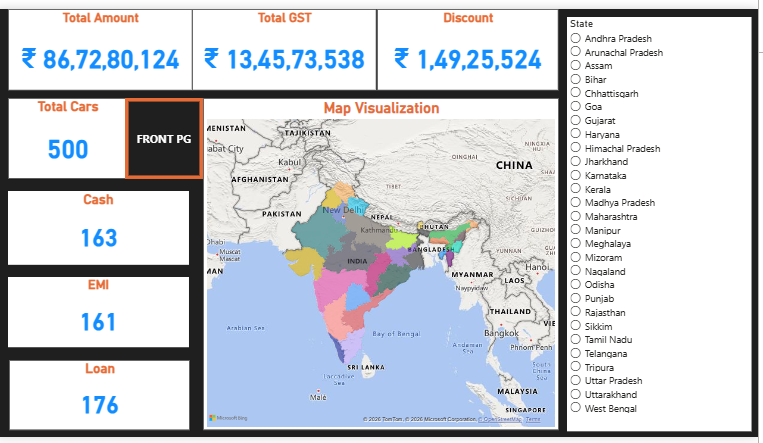

What the dashboard file says about the page in this screenshot:
{"tool":"powerbi","page":{"name":"Page 2","canvas":[1280,720],"ordinal":8},"visuals":[{"type":"filledMap","title":"Map Visualization","fields":{"Category":["car_sales_2025_india_updated.State"],"Series":["car_sales_2025_india_updated.Total_Amount"]},"box":[347.2,150.2,598.1,558.4],"z":0},{"type":"card","title":"Total Amount","fields":{"Values":["Sum(car_sales_2025_india_updated.Total_Amount)"]},"box":[20,0,310,136.7],"z":1000},{"type":"card","title":"Total GST","fields":{"Values":["Sum(car_sales_2025_india_updated.GST)"]},"box":[330,0,310,136.7],"z":2000},{"type":"card","title":"Discount","fields":{"Values":["Sum(car_sales_2025_india_updated.Discount)"]},"box":[640,0,305,136.7],"z":3000},{"type":"card","title":"Total Cars","fields":{"Values":["CountNonNull(car_sales_2025_india_updated.Car_Model)"]},"box":[20.2,149.5,199.9,136.1],"z":4000},{"type":"listSlicer","fields":{"Values":["car_sales_2025_india_updated.State"]},"box":[959.5,12.8,310.4,695.9],"z":5000},{"type":"card","title":"Cash","fields":{"Values":["CountNonNull(car_sales_2025_india_updated.Payment_Mode)"]},"box":[20.2,305.7,304,124.3],"z":6000},{"type":"card","title":"EMI","fields":{"Values":["CountNonNull(car_sales_2025_india_updated.Payment_Mode)"]},"box":[20.2,450.2,304,117.6],"z":7000},{"type":"card","title":"Loan","fields":{"Values":["CountNonNull(car_sales_2025_india_updated.Payment_Mode)"]},"box":[21.8,589.6,304,117.6],"z":8000},{"type":"actionButton","box":[216.7,149.5,131,136.1],"z":8001}]}

Visuals, with their boxes in screenshot pixels (x1, y1, x2, y2):
"Map Visualization" filledMap: Rect(192, 96, 556, 436)
"Total Amount" card: Rect(0, 4, 181, 87)
"Total GST" card: Rect(181, 4, 370, 87)
"Discount" card: Rect(370, 4, 556, 87)
"Total Cars" card: Rect(0, 95, 114, 178)
listSlicer - car_sales_2025_india_updated.State: Rect(565, 12, 754, 436)
"Cash" card: Rect(0, 190, 178, 266)
"EMI" card: Rect(0, 278, 178, 350)
"Loan" card: Rect(0, 363, 179, 435)
actionButton: Rect(112, 95, 192, 178)
